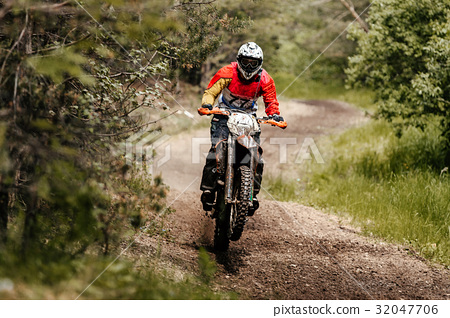helmet: (235, 41, 268, 84)
